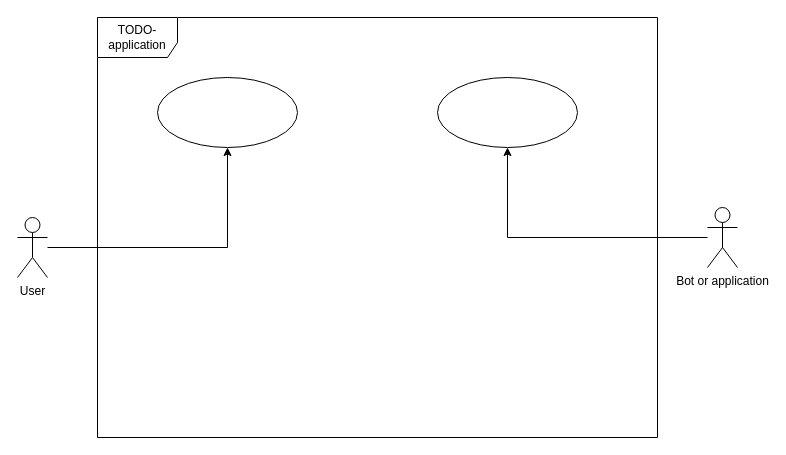
The diagram is 786 pixels wide and 455 high, and some of its shapes have lost their labels. The shapes that lost their labels are listed below. From the top down, each one's centre as x and y in pixels, then its label:
At point (227, 112): "Add a new note".
At point (507, 112): "Send notification(s) about the new note".
